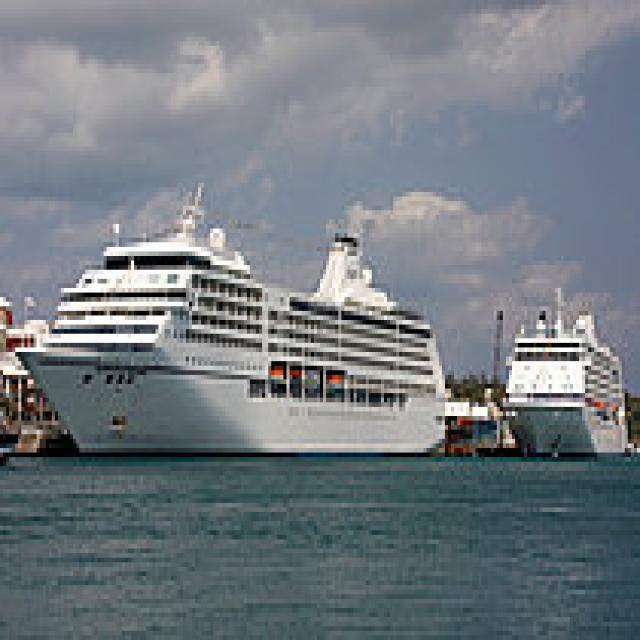Ship: (4, 175, 461, 472), (495, 280, 635, 468)
